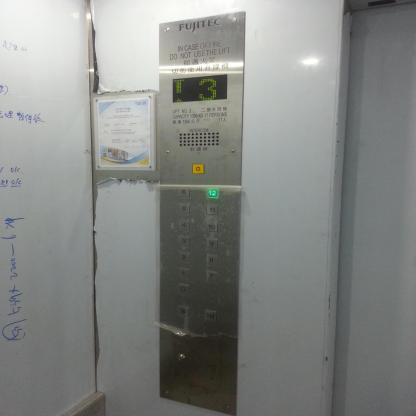1: (178, 268, 190, 278)
10: (206, 221, 218, 232)
11: (206, 204, 218, 215)
12: (206, 188, 219, 198)
2: (179, 252, 189, 262)
3: (178, 235, 190, 246)
4: (178, 219, 190, 230)
5: (178, 204, 190, 214)
6: (178, 188, 190, 197)
7: (206, 271, 218, 281)
8: (206, 254, 218, 264)
9: (205, 238, 218, 249)
G: (178, 284, 190, 294)
alarm: (192, 163, 204, 174)
close: (204, 310, 216, 321)
keyhole: (176, 352, 185, 362)
led: (172, 74, 228, 104)
open: (177, 306, 189, 316)
